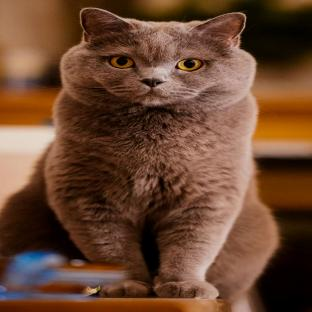Animal: (0, 8, 279, 302)
